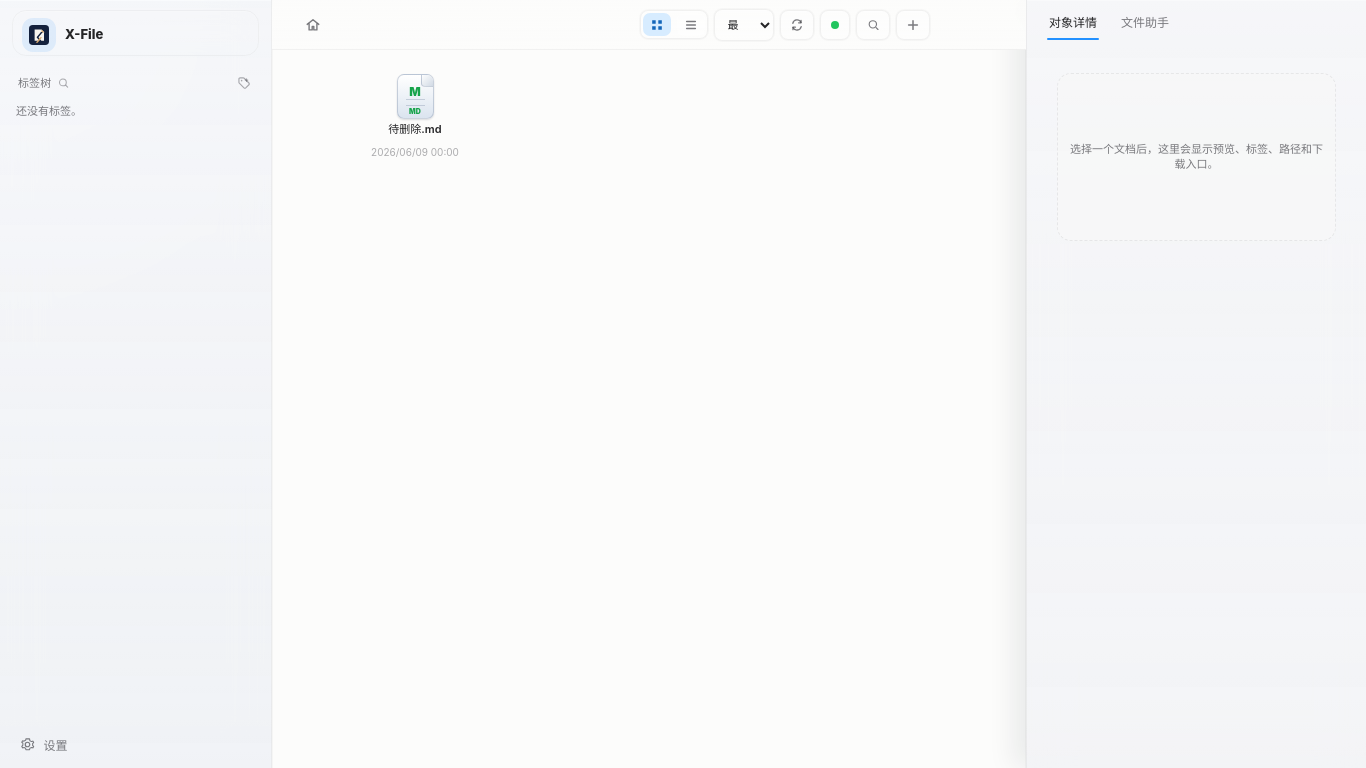
Test: 第 3 批：macOS 原生右键菜单与桌面本地动作 › macOS 原生右键菜单点击删除后会先打开确认弹窗
The image size is (1366, 768).
Right-click the button "M MD 待删除.md 2026/06/09 00:00".
right_click(415, 116)  # box [361,66,469,166]
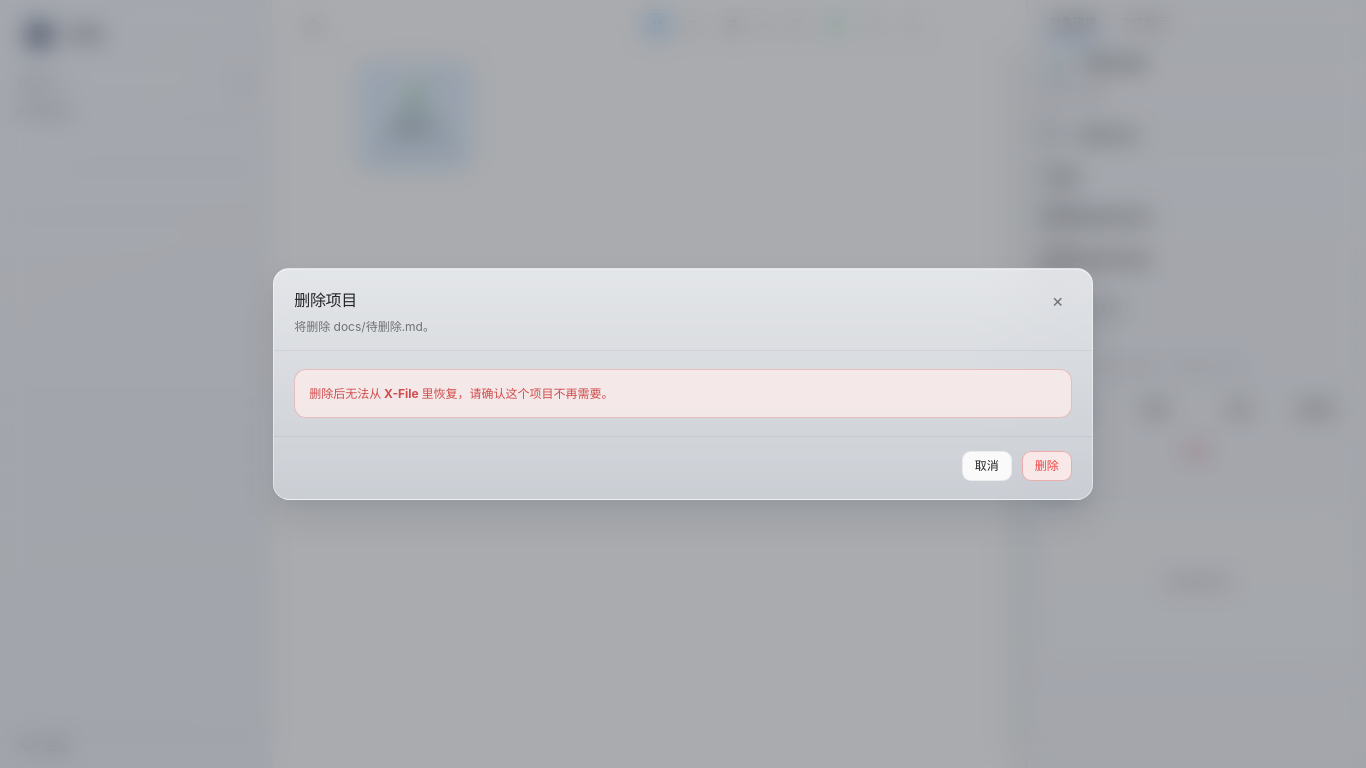
expect the heading "删除项目" is shown: met, box [294,290,357,310]
